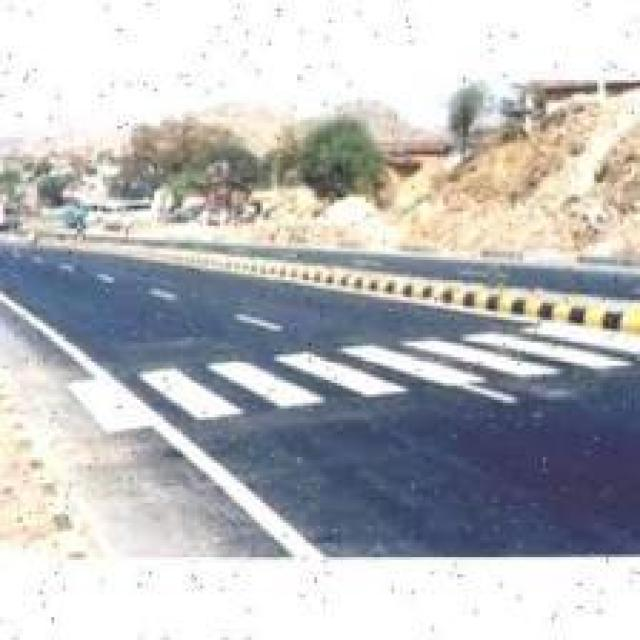walk-crossing: (57, 327, 637, 433)
